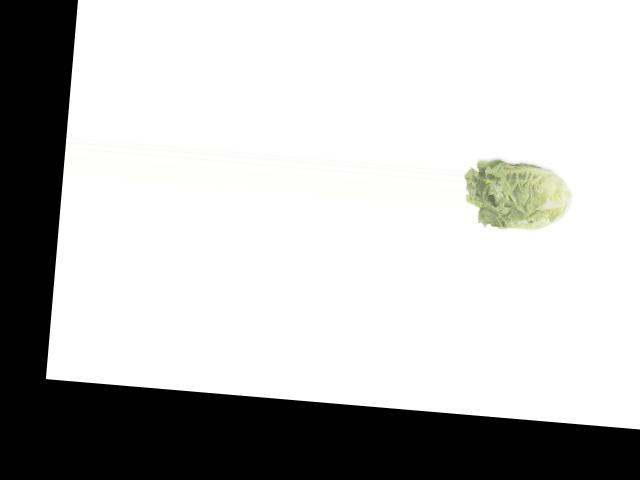lettuce: (462, 152, 575, 240)
